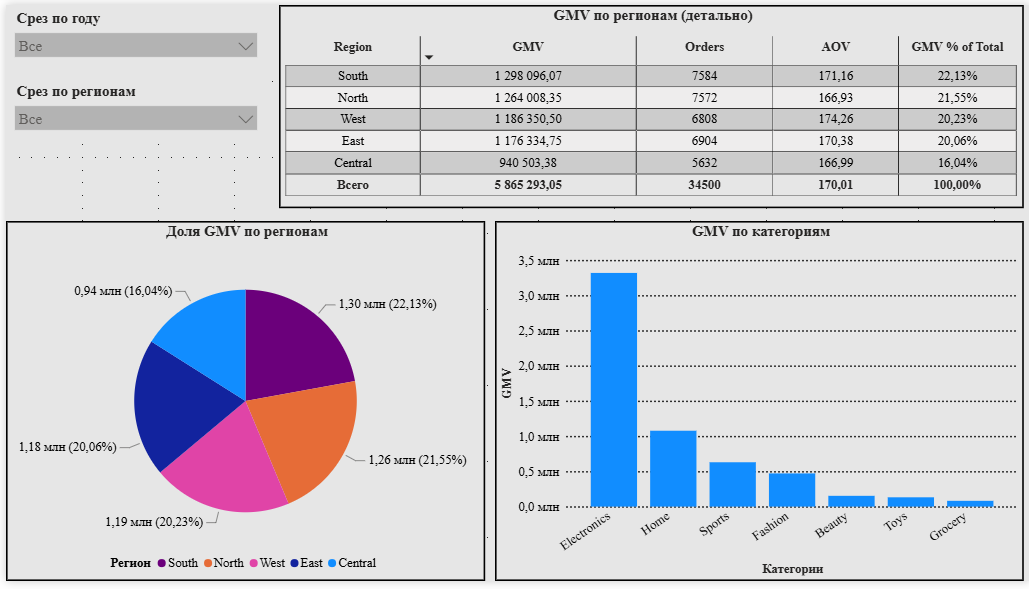

What the dashboard file says about the page in this screenshot:
{"tool":"powerbi","page":{"name":"Regions & categories","canvas":[1280,720],"ordinal":1},"visuals":[{"type":"slicer","fields":{"Values":["clean_orders.region"]},"box":[0,91.2,325,71],"z":0},{"type":"slicer","fields":{"Values":["clean_orders.Year"]},"box":[0,0,325,91.2],"z":1000},{"type":"pieChart","title":"Доля GMV по регионам","fields":{"Category":["clean_orders.region"],"Y":["clean_orders.GMV"]},"box":[0,270,598.8,450],"z":2000},{"type":"tableEx","title":"GMV по регионам (детально)","fields":{"Values":["clean_orders.region","clean_orders.GMV","clean_orders.Orders","clean_orders.AOV","clean_orders.GMV % of Total"]},"box":[341.2,0,931.2,253.8],"z":3000},{"type":"clusteredColumnChart","title":"GMV по категориям","fields":{"Y":["clean_orders.GMV"],"Category":["clean_orders.category"]},"box":[611.2,270,661.2,450],"z":4000}]}

Visuals, with their boxes in screenshot pixels (x1, y1, x2, y2), scaled from the page's 1280x720 canvas onto the 1029x589 screenshot:
slicer - clean_orders.region: 0:75:261:133
slicer - clean_orders.Year: 0:0:261:75
"Доля GMV по регионам" pieChart: 0:221:481:588
"GMV по регионам (детально)" tableEx: 274:0:1023:208
"GMV по категориям" clusteredColumnChart: 491:221:1023:588
